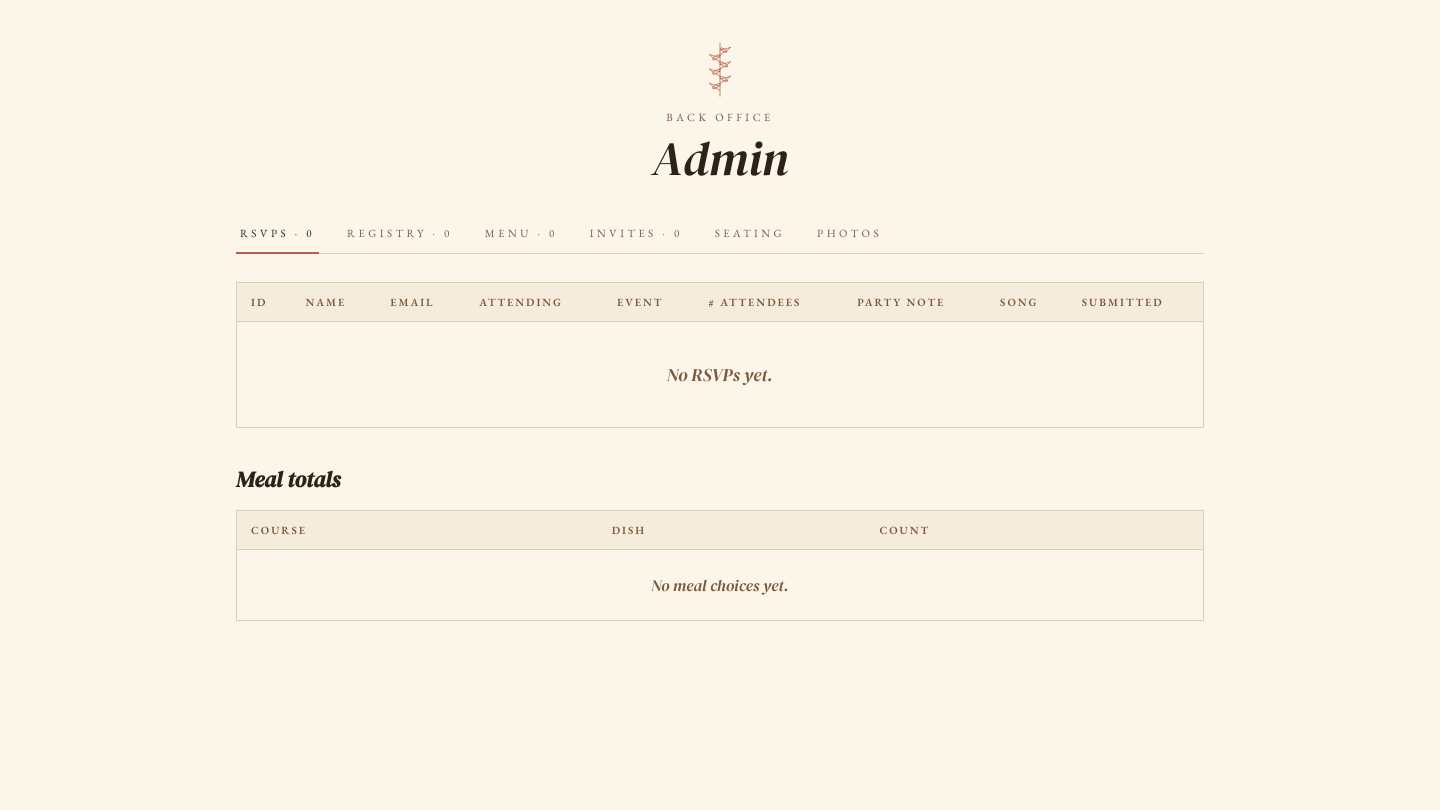
Test case: AdminDashboard — seating tab › deleting a table confirms first, then DELETEs and refreshes
The width and height of the screenshot is (1440, 810).
Click the button "SEATING" at (750, 234), box x1=711 y1=214 x2=789 y2=254
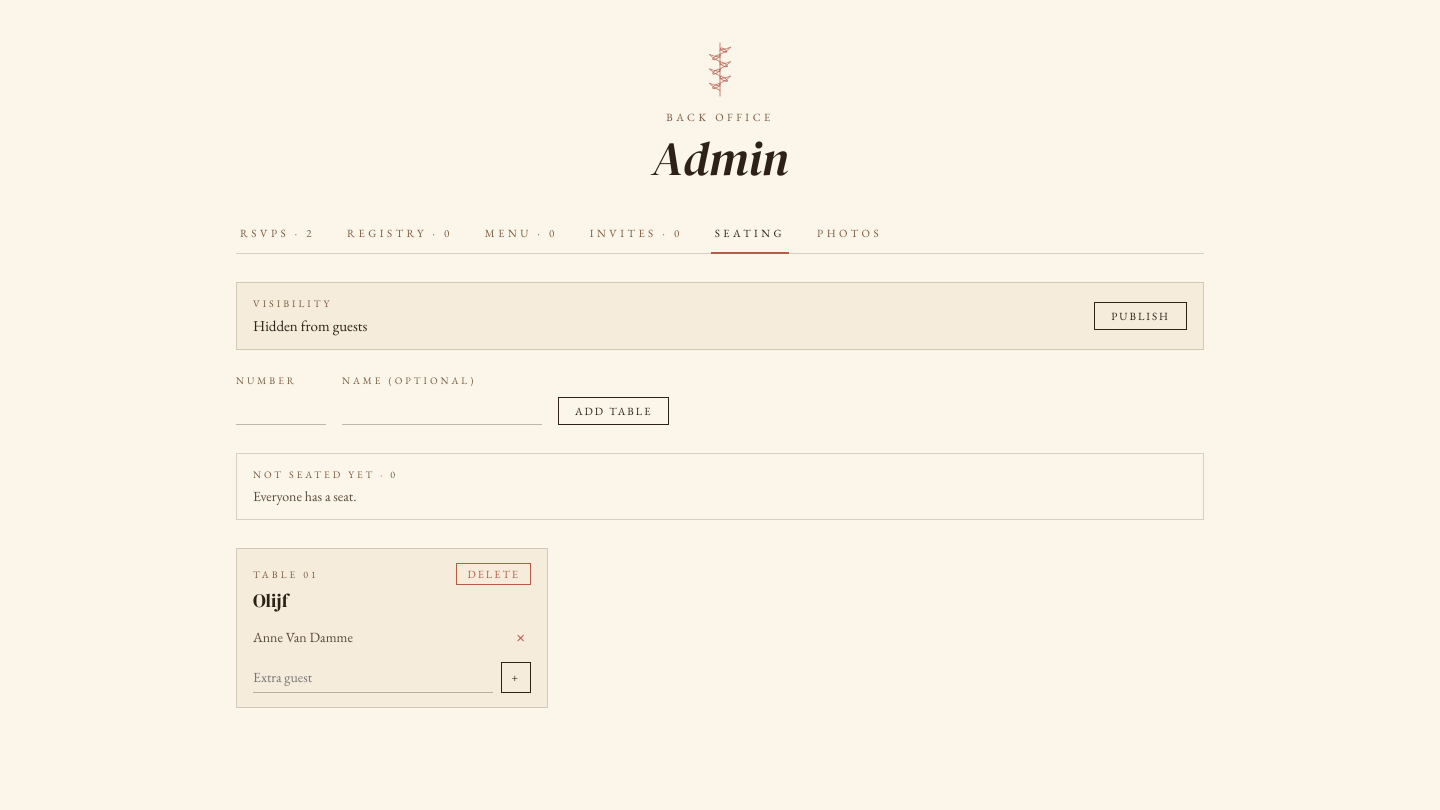
Check: the text "Table 01" is shown, box x1=253 y1=568 x2=319 y2=581
Click the button "Delete" at (494, 574), box x1=456 y1=563 x2=531 y2=585
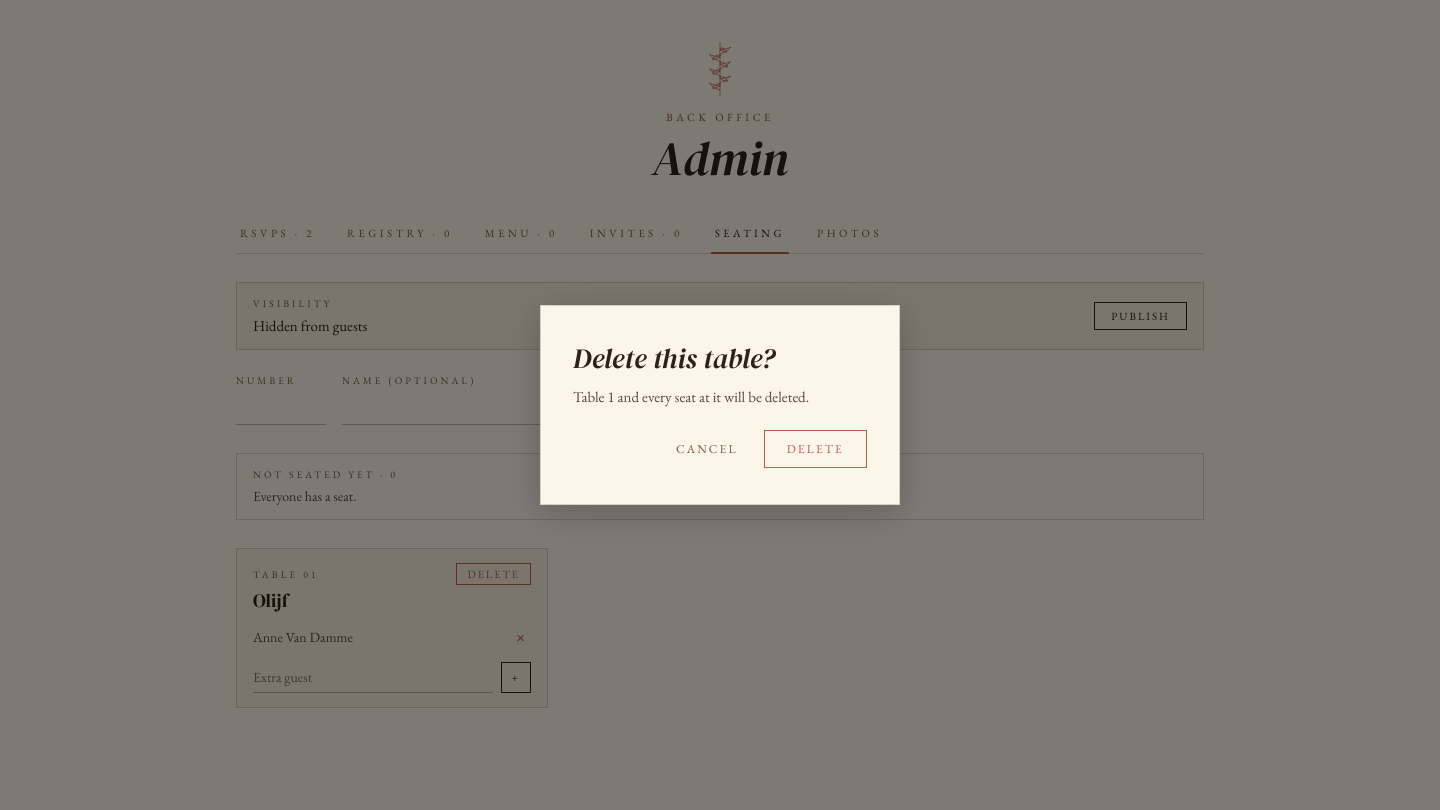
Check: the text "Delete this table?" is shown, box x1=573 y1=339 x2=775 y2=377
Check: the text "Table 1 and every seat at it will be deleted." is shown, box x1=573 y1=387 x2=809 y2=406
Check: the number of buttons "Delete" is 2
Click the button "Delete" at (815, 449), box x1=764 y1=430 x2=867 y2=468
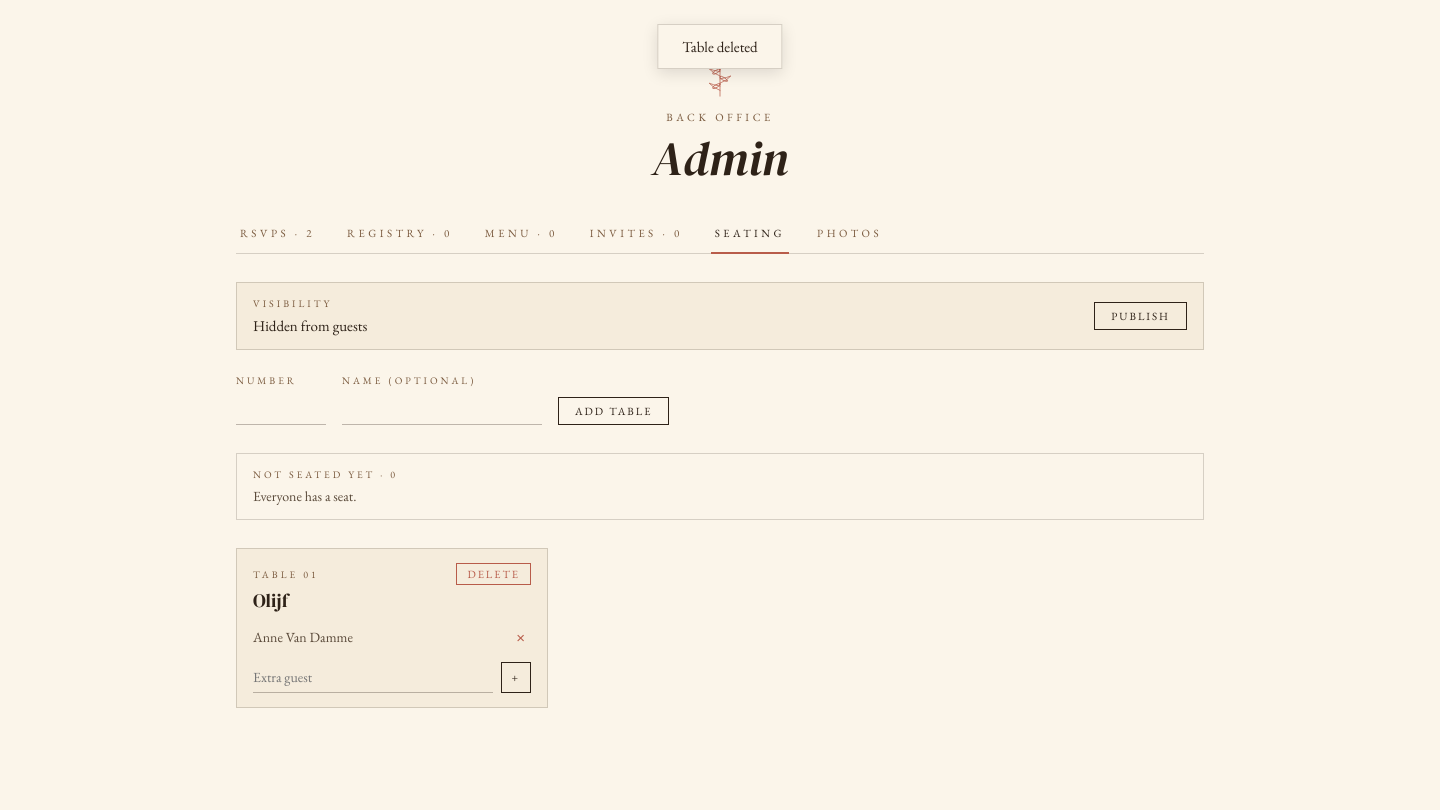
Check: the text "Delete this table?" is gone
Check: the text "Table deleted" is shown, box x1=657 y1=24 x2=783 y2=69
